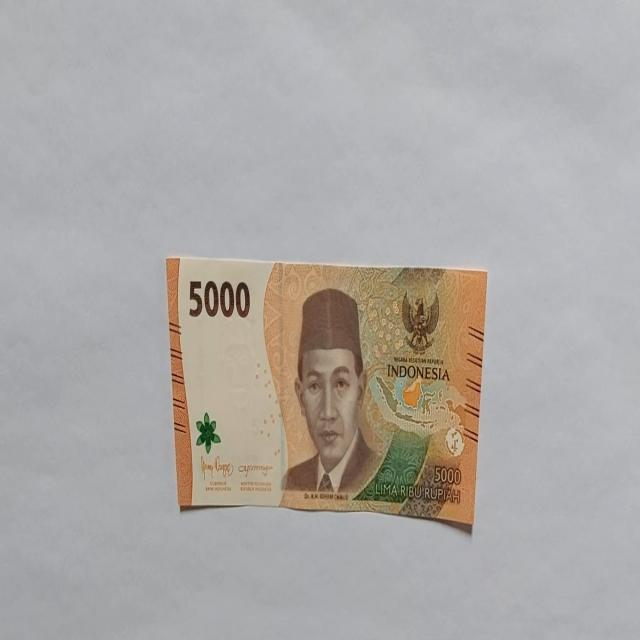lima ribu rupiah: (164, 255, 490, 537), (279, 286, 382, 497)
